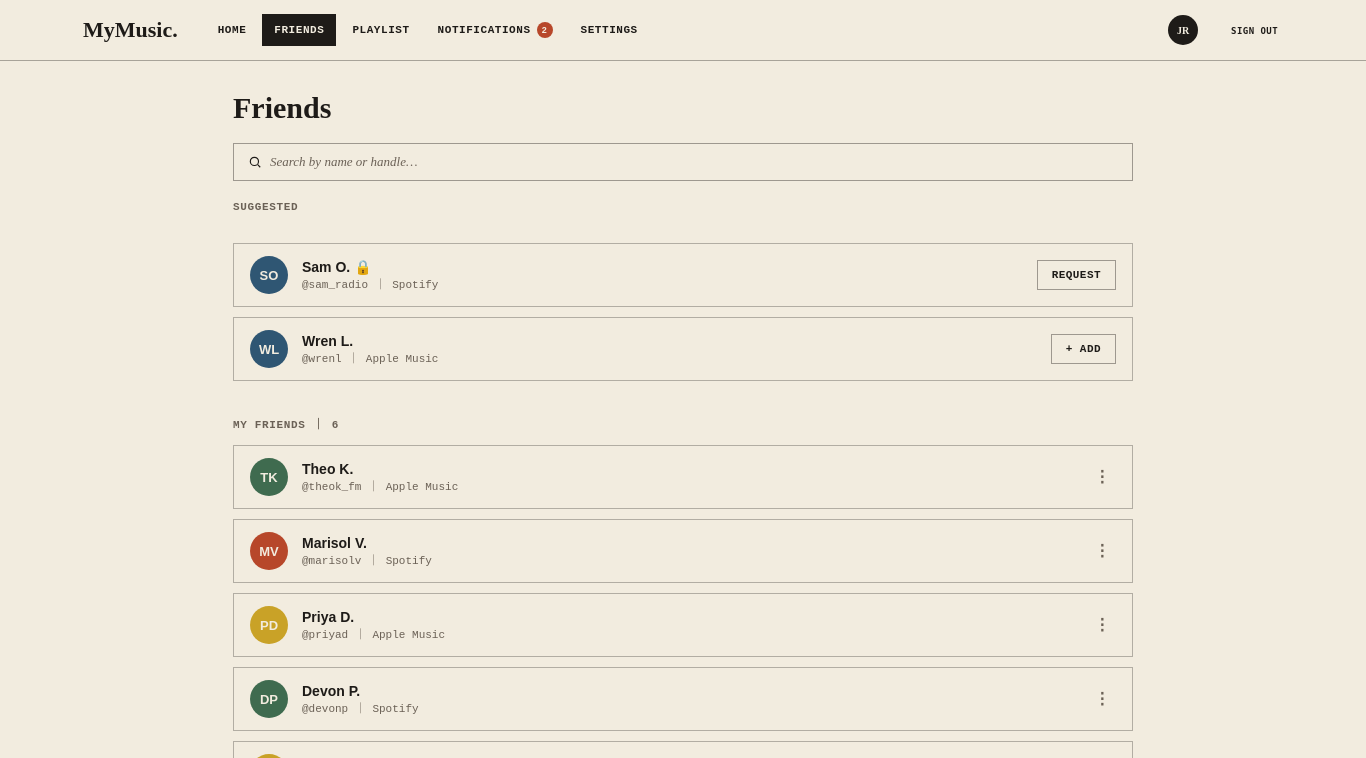
friends › rolls an optimistic follow back when the server action fails
Click the button with aria-label "Add Wren L." at (1083, 349), box [1051,334,1116,364]
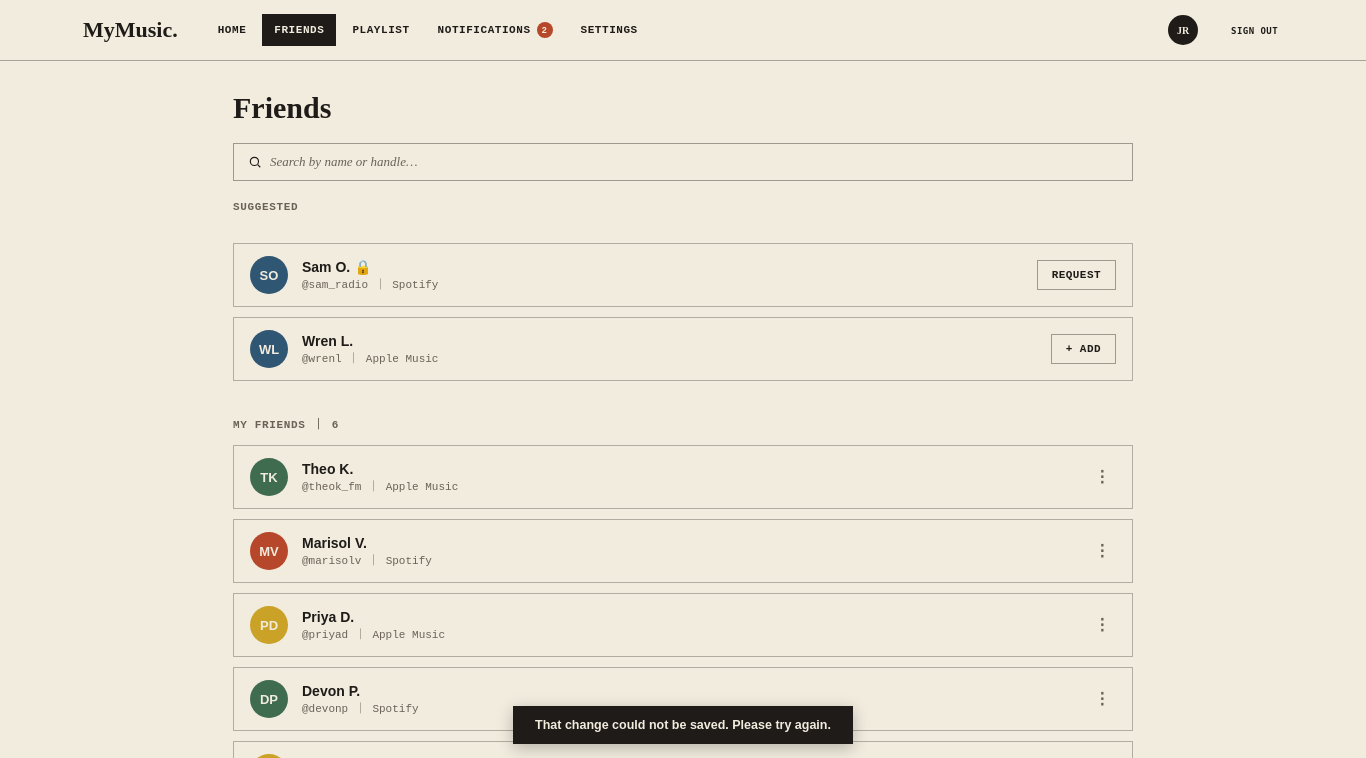
expect the text "That change could not be saved. Please try again." is shown: met, box [513,706,853,744]
